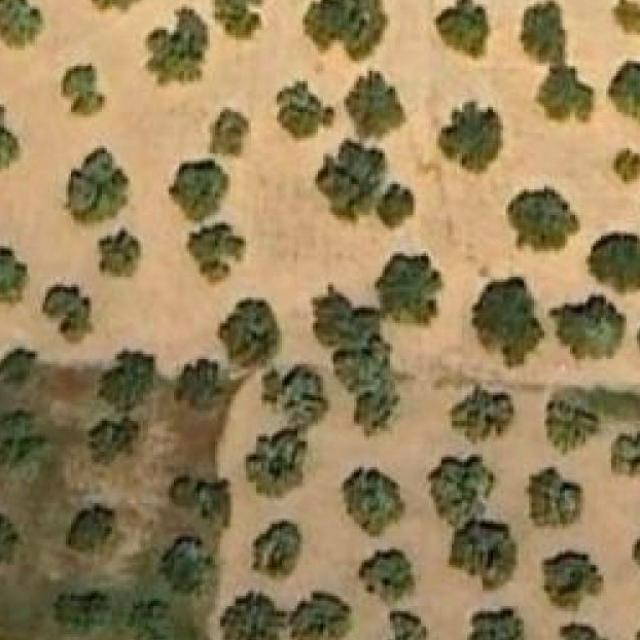Tree: (313, 290, 400, 440), (472, 277, 544, 367), (315, 141, 387, 223), (140, 6, 210, 87), (64, 145, 130, 225), (426, 455, 496, 527), (302, 0, 385, 59), (448, 518, 516, 590), (506, 189, 580, 254), (340, 465, 406, 537), (264, 367, 330, 432), (346, 68, 407, 138), (217, 298, 277, 368), (438, 102, 500, 169), (448, 385, 516, 444), (541, 550, 603, 614), (158, 537, 222, 599), (382, 256, 441, 323), (184, 223, 246, 285), (524, 462, 583, 527), (246, 431, 302, 496), (169, 162, 228, 223), (274, 78, 333, 138), (97, 349, 156, 408), (433, 0, 490, 61), (169, 475, 230, 527), (359, 547, 416, 602), (519, 0, 570, 61), (253, 519, 308, 575), (541, 64, 596, 120), (290, 590, 351, 640), (551, 297, 603, 354), (221, 592, 282, 640), (0, 410, 48, 470), (588, 235, 640, 287), (61, 61, 107, 117), (176, 359, 222, 414), (94, 225, 140, 277), (55, 594, 109, 638), (0, 0, 46, 50), (42, 287, 89, 333), (91, 416, 138, 462), (66, 506, 115, 550), (546, 403, 593, 448), (215, 0, 267, 38), (127, 598, 174, 640), (0, 240, 28, 308), (469, 606, 524, 640), (210, 107, 249, 153), (377, 182, 412, 229), (377, 611, 428, 640), (0, 349, 35, 390), (0, 105, 20, 170), (618, 64, 640, 120), (611, 434, 640, 476), (606, 0, 640, 35), (610, 151, 640, 185), (0, 513, 20, 563), (557, 621, 608, 640), (84, 0, 143, 14)
